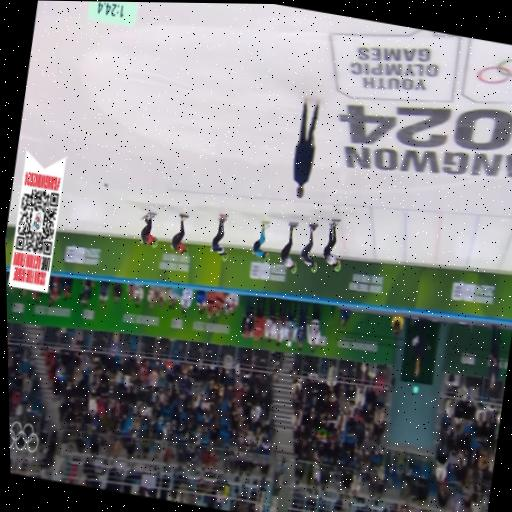Skater: (280, 221, 297, 272), (323, 219, 340, 270), (300, 223, 317, 272), (209, 214, 227, 260), (252, 221, 269, 262), (171, 214, 187, 256), (140, 212, 156, 246)
